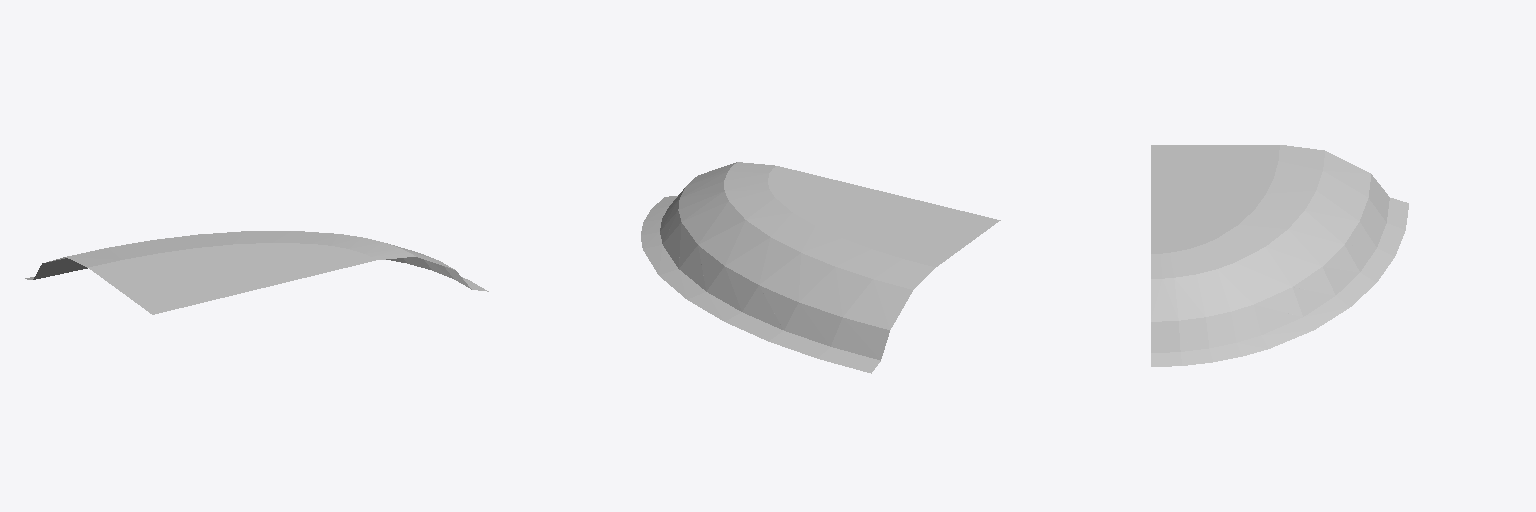
File: Track_Normal_Curve_Inner_2x3.obj
3 renders of one model, left to right at view 1: azimuth 30°, elevation 25°; view 2: azimuth 150°, elevation 25°; view 3: azimuth 270°, elevation 25°, orthographic.
Visible parts, largest first — view 1: object1; view 2: object1; view 3: object1.
Part boxes in pixels (x1,y1,x2,y2): object1: (25, 231, 488, 314); object1: (641, 162, 1000, 373); object1: (1151, 145, 1408, 366).
Size of the model in its own units: 3 by 0.5 by 2.